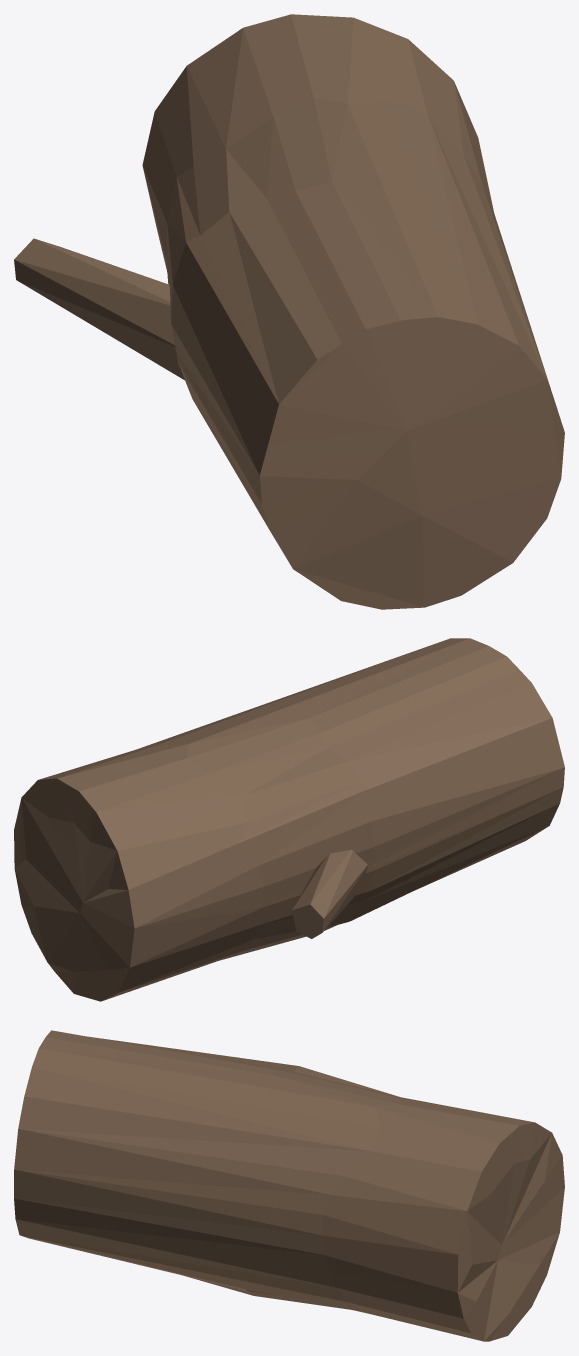
The model's file is wood.fbx.
3 views of the same model, one above another, from view 1: azimuth 30°, elevation 25°; view 2: azimuth 150°, elevation 25°; view 3: azimuth 270°, elevation 25° (orthographic). The views are drawn at different scales.
Parts seen in each view (by area): view 1: Cylinder; view 2: Cylinder; view 3: Cylinder.
Boxes of the visible parts, bbox=[...] form: Cylinder: bbox=[14, 14, 564, 609]; Cylinder: bbox=[14, 638, 564, 1001]; Cylinder: bbox=[14, 1030, 564, 1341].
Bounding box in the file's own units: 36.69 × 22.03 × 51.13.
